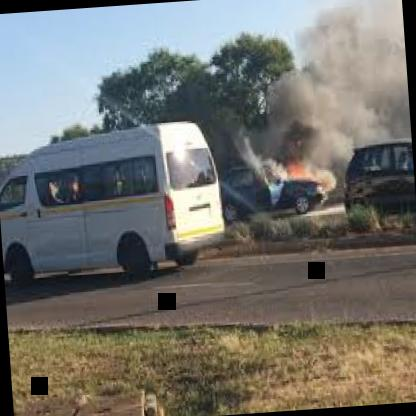fire: (243, 122, 348, 242)
